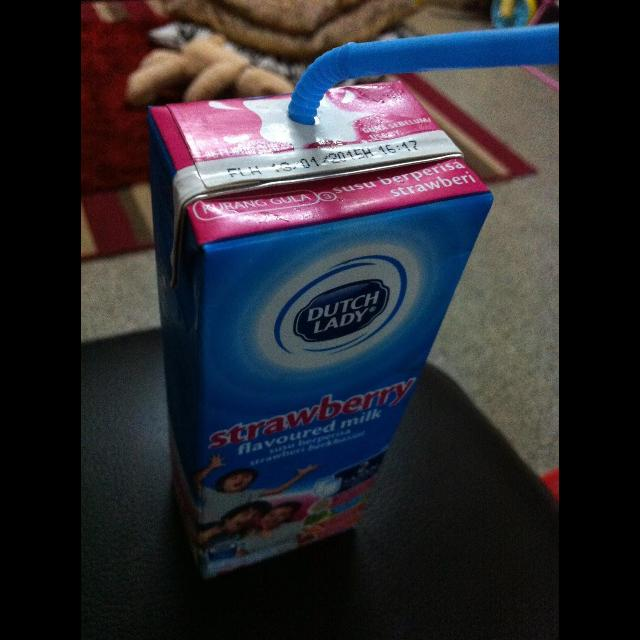caixinha: (148, 79, 488, 582)
